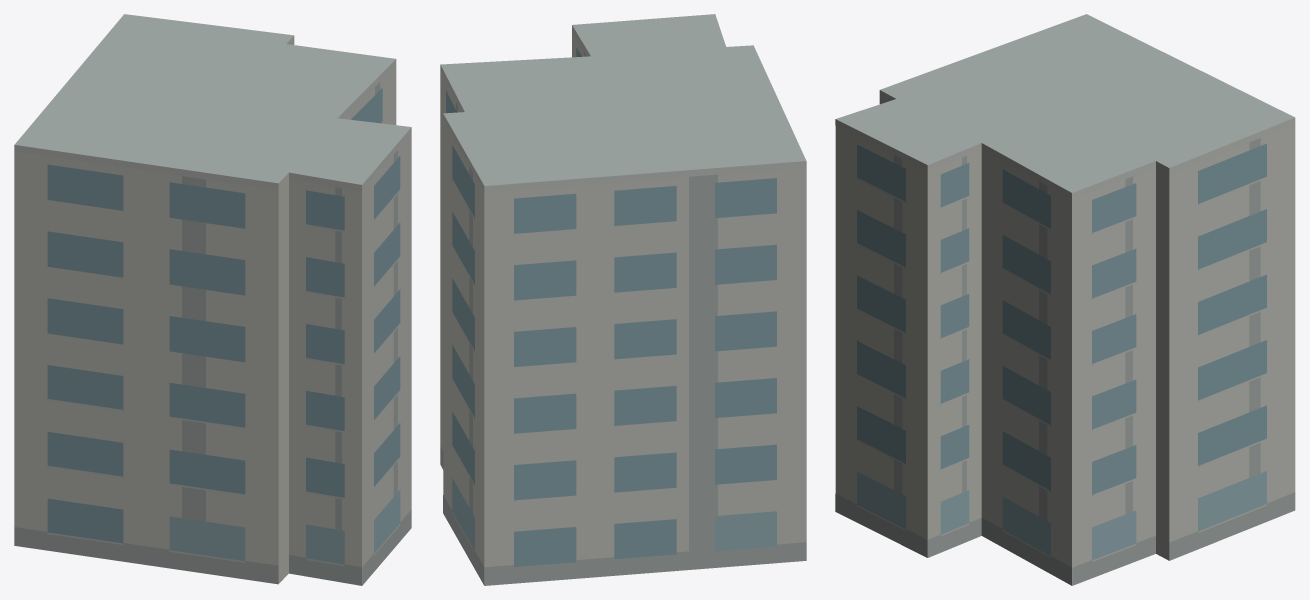
Rendered from survey-upis-32850329.glb.
3 renders of one model, left to right at view 1: azimuth 30°, elevation 25°; view 2: azimuth 150°, elevation 25°; view 3: azimuth 270°, elevation 25°, orthographic. The views are drawn at different scales.
Parts seen in each view (by area): view 1: survey-upis-32850329.tmp; view 2: survey-upis-32850329.tmp; view 3: survey-upis-32850329.tmp.
Part boxes in pixels (x1,y1,x2,y2): survey-upis-32850329.tmp: (14, 14, 411, 585); survey-upis-32850329.tmp: (440, 14, 806, 585); survey-upis-32850329.tmp: (835, 14, 1295, 585).
Bounding box in the file's own units: 14.28 × 14.6 × 15.5.
